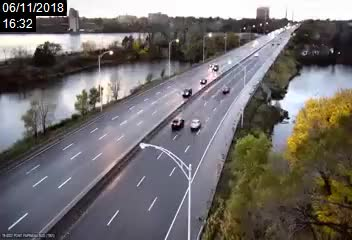personal_car: (170, 116, 185, 130), (181, 86, 193, 99), (207, 61, 219, 73), (190, 118, 201, 130), (221, 84, 230, 95), (198, 76, 206, 85)
